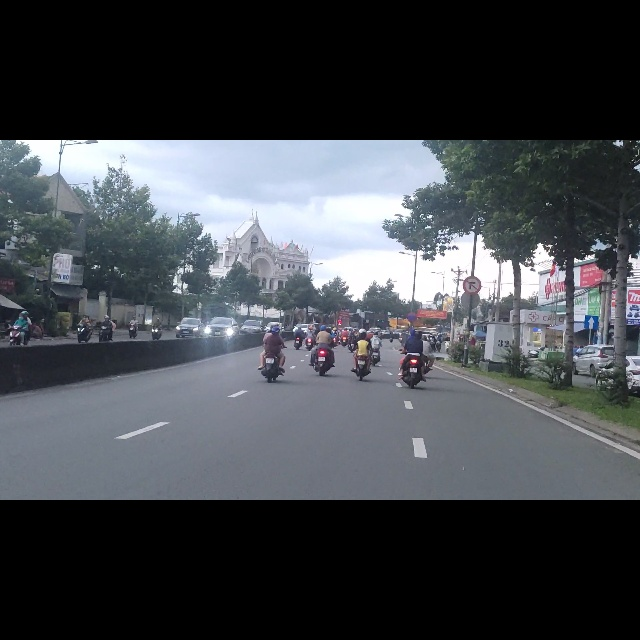bien_cam: (463, 242, 482, 275), (407, 306, 417, 324)
